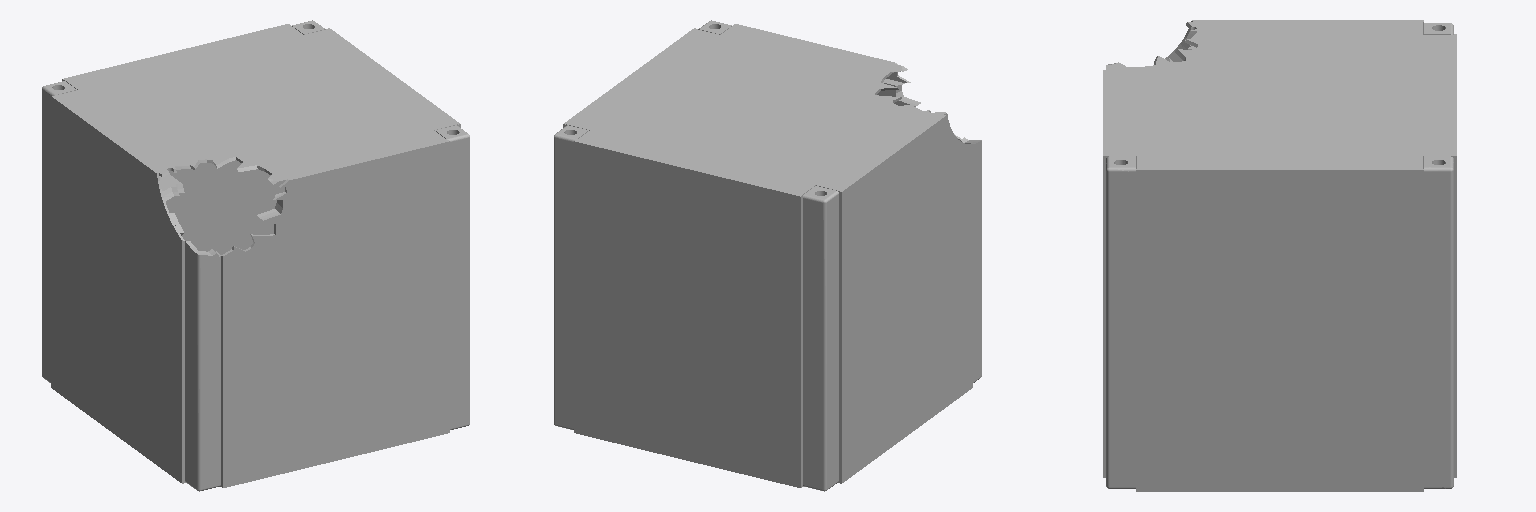
robot.urdf — target:
<robot
  name="target">
  <link
	name="base_footprint"/>
  <link
    name="base_link">
    <inertial>
      <origin
        xyz="-2.7756E-17 0 0"
        rpy="0 0 0" />
      <mass
        value="255" />
      <inertia
        ixx="3.825"
        ixy="0"
        ixz="0"
        iyy="3.825"
        iyz="0"
        izz="3.825" />
    </inertial>
    <visual>
      <origin
        xyz="0 0 0"
        rpy="0 0 -1.5707963267949" />
      <geometry>
        <mesh
          filename="package://target_description/meshes/target_vis.dae" 
          scale="0.99 0.99 1"/> <!--This scale was to cover up the panels"-->
      </geometry>
      <material
        name="">
        <color
          rgba="0.75294 0.75294 0.75294 1" />
      </material>
    </visual>
    <collision>
      <origin
        xyz="0 0 0"
        rpy="0 0 -1.5707963267949" />
      <geometry>
        <!--mesh
          filename="package://target_description/meshes/target.STL" /-->
          <box size="0.300 0.300 0.300"/>
      </geometry>
    </collision>
  </link>
  <gazebo reference="base_link">
		<mu1>0.2</mu1>
		<mu2>0.2</mu2>
  </gazebo>
  <gazebo>
		<plugin name="alwaysenable" filename="libalwaysenable.so"/>
  </gazebo>
	<!-- POSE 3D GROUND TRUTH PLUGIN-->
	<gazebo>
	  <plugin name="ground_truth" filename="libgazebo_ros_p3d.so">
		<frameName>map</frameName>
		<bodyName>base_link</bodyName>
		<topicName>/target/odom</topicName>
		<updateRate>30</updateRate>
	  </plugin>
	</gazebo>
	
	<gazebo>
	  <plugin name="targetspd" filename="libtargetspd.so"/>
	</gazebo>
	
	
	<gazebo>
			<plugin name="GazeboTargetM" filename="libtargetm.so">
				<robotNamespace>target</robotNamespace>
				<commandTopic>/joy</commandTopic>
				<!-- JOYSTICK BUTTONS AND AXES MAPPING -->
				<joyBEnableCin>0</joyBEnableCin>
			</plugin>
	</gazebo>
	
   <!-- Attach model to gazebo-->
  <joint name="base_joint" type="fixed">	
		<parent link="base_footprint"/>
		<child link="base_link"/>
  </joint>
  
</robot>

--- What the picture shows (computed from the rendered views, not written in the file) ---
3 views of the same robot in one strip: view 1: azimuth 30°, elevation 25°; view 2: azimuth 150°, elevation 25°; view 3: azimuth 270°, elevation 25° (orthographic).
Robot: target — 2 links, 1 joints (1 fixed); root link base_footprint; default pose: every joint at zero.
Links seen in each view (by area): view 1: base_link; view 2: base_link; view 3: base_link.
Link boxes in pixels (box(x1,y1,x2,y2)): base_link: box(42, 20, 469, 491); base_link: box(554, 20, 981, 491); base_link: box(1103, 20, 1456, 491).
Bounding box of the posed robot: 0.2999 × 0.2999 × 0.3 m (x, y, z).
1 mesh visuals loaded from 1 distinct referenced files (1 Collada DAE).